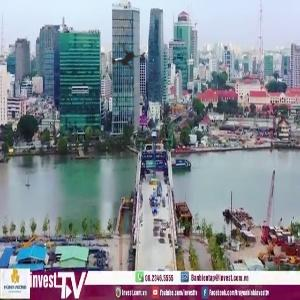drone: (95, 23, 164, 92)
